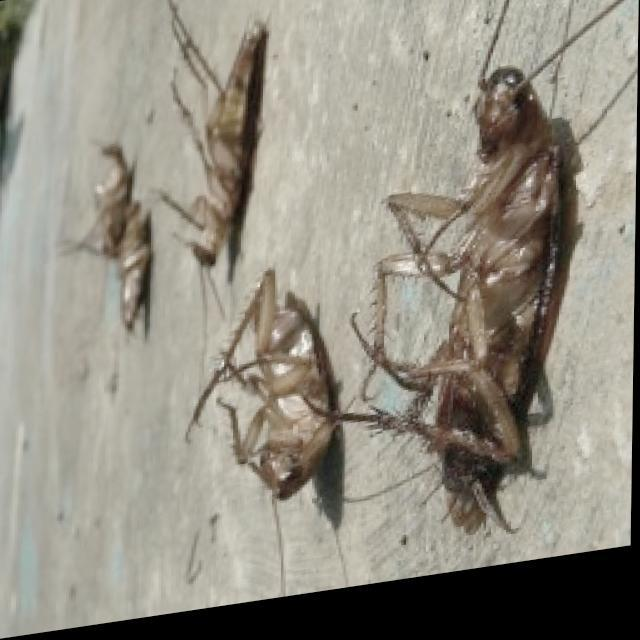cockroach: (343, 26, 608, 535), (158, 8, 301, 306), (197, 256, 330, 518), (71, 125, 141, 275), (116, 171, 172, 328)
